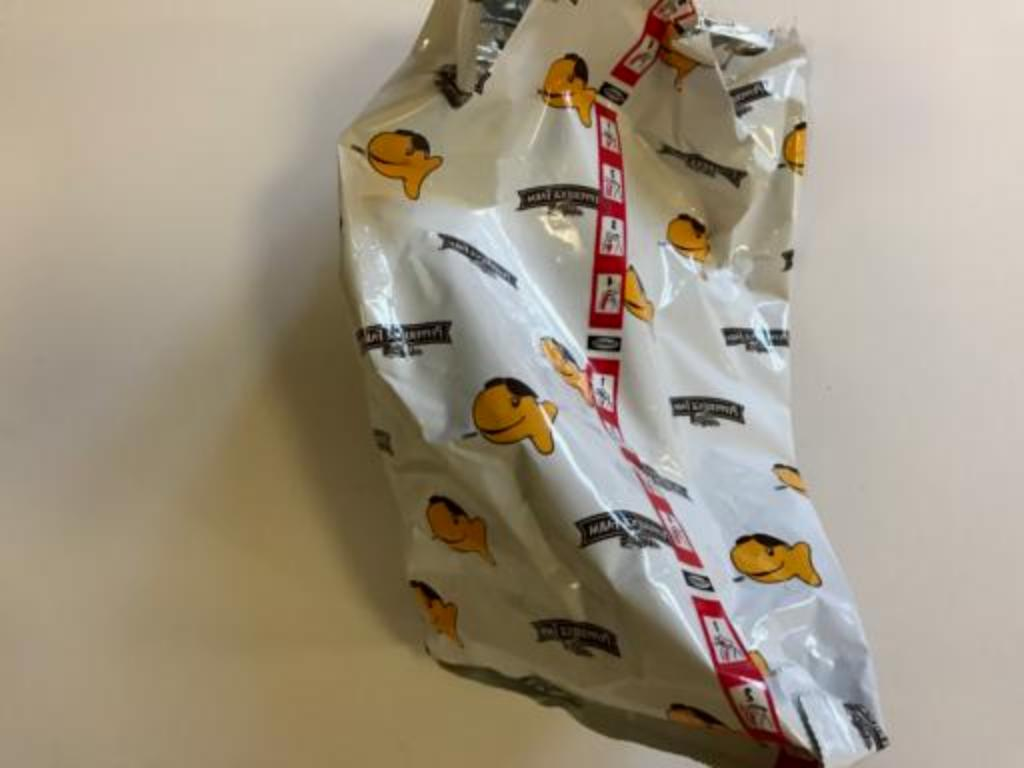garbage: (281, 10, 931, 768)
